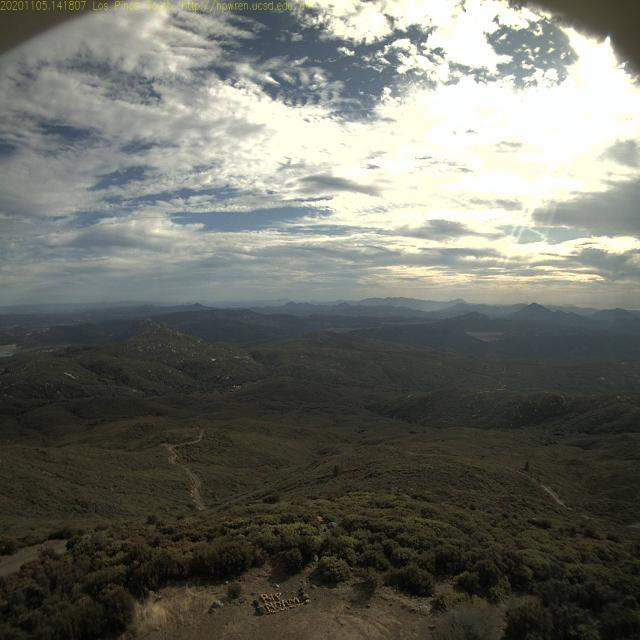smoke: (488, 306, 523, 322)
